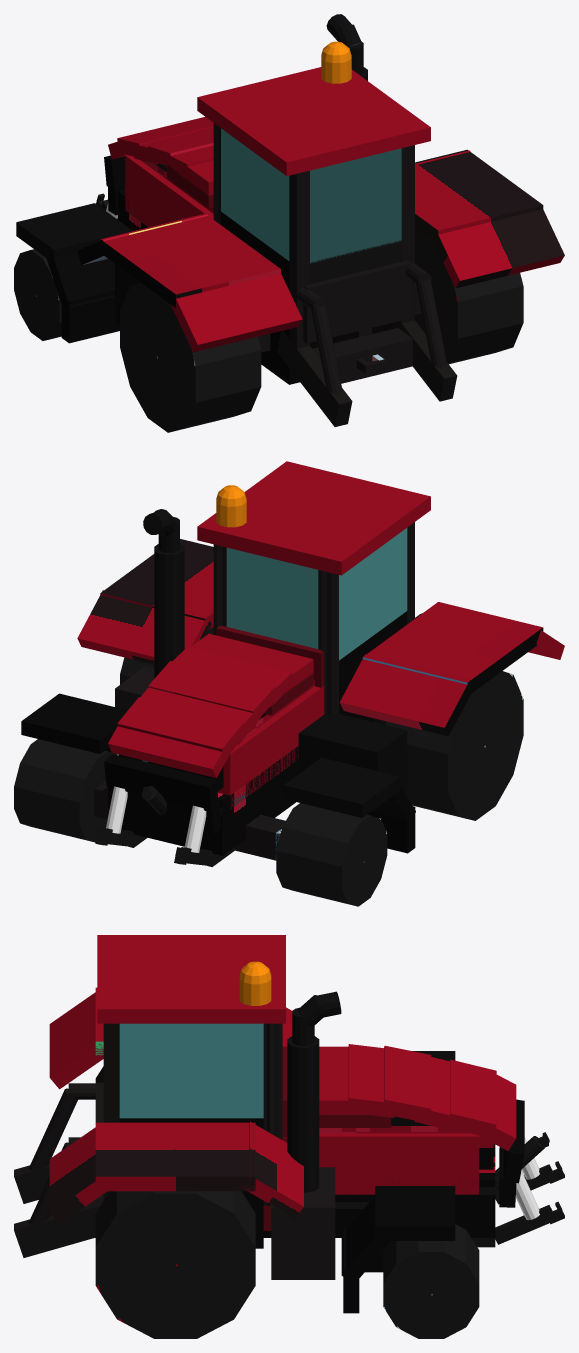
The model's file is Puma185_test.glb..gltf.
3 views of the same model, one above another, from view 1: azimuth 30°, elevation 25°; view 2: azimuth 150°, elevation 25°; view 3: azimuth 270°, elevation 25° (orthographic). The views are drawn at different scales.
Parts seen in each view (by area): view 1: mesh (×27), cylinder (×6), sphere; view 2: mesh (×33), cylinder (×8); view 3: mesh (×30), cylinder (×8), sphere.
Boxes of the visible parts, x1,y1,x2,y2 form: mesh (×27): (16, 67, 564, 426); cylinder (×6): (14, 58, 523, 432); sphere: (321, 41, 351, 62); mesh (×33): (21, 461, 564, 860); cylinder (×8): (14, 502, 523, 906); mesh (×30): (14, 935, 555, 1313); cylinder (×8): (29, 979, 539, 1338); sphere: (239, 961, 271, 984).
Bounding box in the file's own units: 0.875 × 0.6875 × 1.08.
86 materials, 82 textured.
